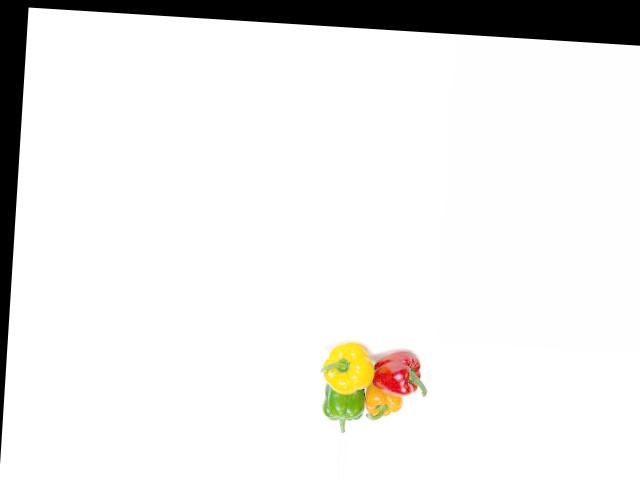bell_pepper: (316, 338, 378, 396)
